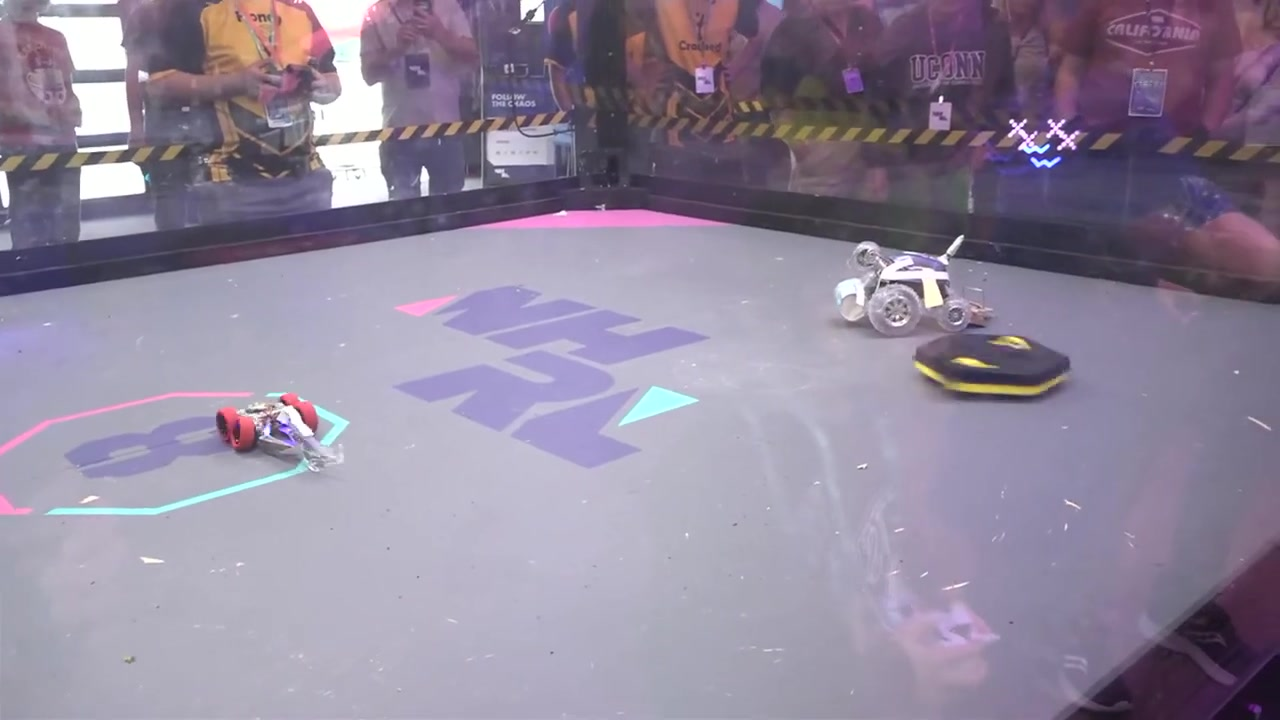combatbot: (832, 240, 987, 336), (909, 333, 1076, 401), (215, 393, 320, 452)
